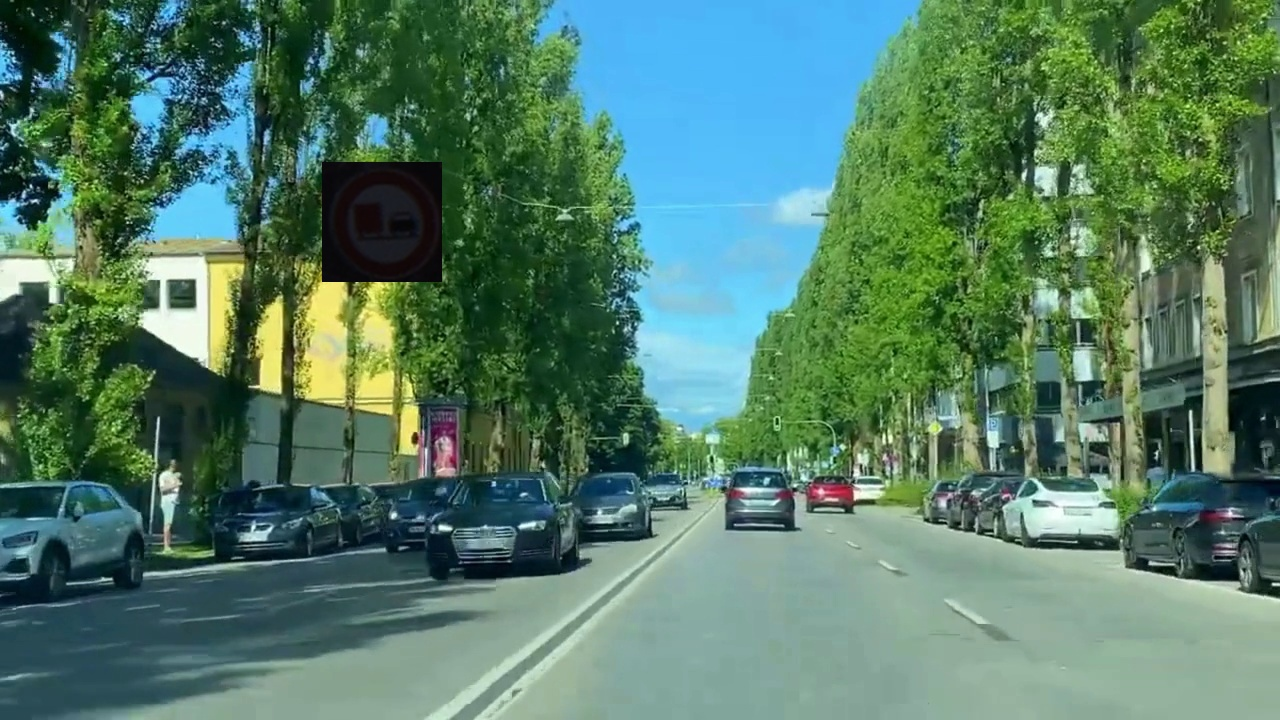No pass >3.5t: (322, 162, 442, 282)
